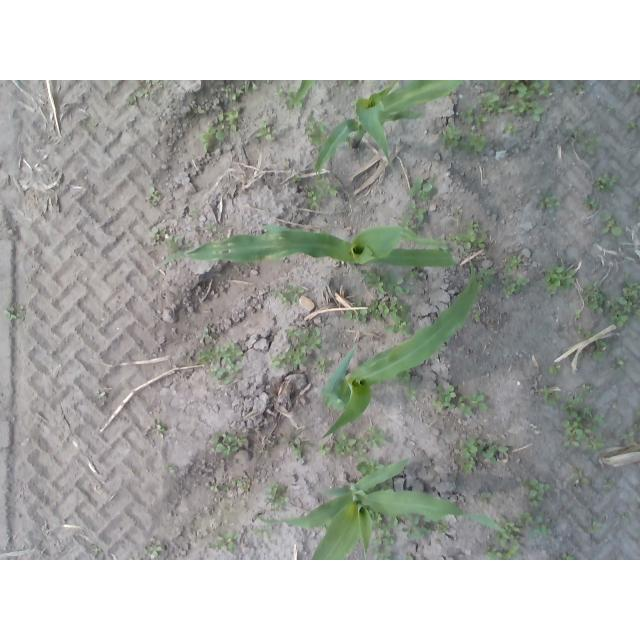Maize: (319, 257, 477, 437), (258, 456, 511, 560), (316, 81, 463, 176), (149, 224, 456, 268), (294, 81, 315, 103)
Weeds: (200, 342, 244, 384), (210, 432, 248, 456), (524, 477, 551, 507), (606, 296, 630, 328), (510, 80, 551, 98), (496, 532, 521, 560), (373, 514, 396, 544), (584, 282, 605, 314), (264, 484, 290, 509), (582, 427, 606, 453), (407, 177, 434, 200), (459, 393, 487, 415), (306, 116, 327, 145), (369, 298, 399, 318), (587, 331, 606, 362), (361, 270, 385, 294), (544, 265, 564, 292), (483, 442, 510, 462), (385, 313, 410, 334), (563, 419, 582, 446), (334, 433, 356, 455), (345, 302, 368, 323), (594, 172, 618, 192), (366, 424, 386, 448), (479, 89, 500, 111), (601, 213, 621, 236), (440, 127, 460, 150), (467, 132, 487, 155), (455, 438, 478, 458), (562, 396, 581, 420), (302, 327, 322, 349), (217, 532, 239, 552), (385, 272, 403, 294), (450, 235, 475, 250), (539, 193, 562, 209), (541, 387, 560, 406), (436, 385, 456, 403), (528, 100, 545, 121), (316, 180, 337, 196), (402, 526, 430, 538), (286, 348, 307, 364), (145, 541, 163, 559), (623, 282, 640, 301), (285, 286, 304, 303), (410, 203, 427, 222), (399, 211, 416, 230), (145, 188, 161, 207), (202, 129, 215, 152), (508, 99, 529, 113), (286, 93, 303, 110), (270, 352, 287, 369), (525, 524, 547, 537), (505, 256, 520, 274), (148, 225, 161, 245), (372, 548, 392, 561), (286, 328, 302, 344), (274, 290, 291, 305), (574, 469, 589, 486), (459, 107, 473, 125), (626, 301, 640, 319), (356, 462, 384, 471), (226, 111, 239, 130), (292, 438, 303, 459), (461, 458, 476, 473), (565, 269, 578, 286), (308, 191, 321, 208), (166, 237, 179, 254), (254, 527, 274, 538), (233, 480, 251, 492), (155, 419, 166, 437), (465, 221, 479, 235), (205, 325, 216, 342), (519, 511, 532, 525), (254, 122, 266, 137), (405, 383, 417, 398), (500, 516, 515, 528), (475, 114, 486, 130), (583, 405, 593, 422), (610, 355, 622, 369), (432, 399, 444, 413), (4, 307, 16, 320), (504, 283, 516, 296), (589, 520, 602, 532), (479, 492, 491, 505), (399, 371, 410, 385), (620, 431, 635, 441), (485, 552, 501, 561), (314, 360, 325, 373), (437, 521, 448, 534), (406, 515, 420, 525), (135, 91, 150, 100), (243, 84, 258, 93), (586, 197, 598, 208), (592, 415, 604, 426), (588, 137, 601, 147), (204, 221, 217, 231), (518, 275, 531, 285), (503, 124, 517, 133), (186, 349, 195, 363), (233, 91, 244, 102), (266, 128, 277, 139), (582, 145, 594, 155), (626, 121, 638, 131), (399, 302, 406, 319), (222, 84, 231, 97), (317, 446, 330, 455), (498, 106, 514, 113), (18, 305, 26, 319), (574, 87, 584, 98), (479, 227, 489, 237), (476, 238, 485, 249), (357, 438, 368, 447), (605, 480, 616, 489), (279, 436, 290, 445), (291, 428, 302, 437), (559, 553, 573, 560), (408, 270, 419, 278), (549, 364, 557, 375), (445, 401, 456, 409), (193, 107, 205, 114), (214, 114, 223, 123), (216, 130, 225, 139), (391, 517, 400, 526), (260, 450, 269, 459), (358, 445, 366, 455), (473, 310, 479, 323), (270, 508, 283, 514), (499, 96, 506, 107), (502, 278, 511, 286), (580, 385, 592, 391), (475, 432, 481, 444), (4, 176, 12, 185), (211, 485, 219, 493), (571, 130, 578, 139), (633, 84, 640, 93), (501, 80, 508, 89), (461, 138, 468, 147), (98, 391, 107, 398), (455, 209, 461, 219), (161, 227, 167, 237), (157, 80, 164, 88), (534, 516, 542, 523), (267, 441, 275, 448), (274, 89, 283, 95), (575, 310, 581, 319), (633, 424, 639, 433), (169, 467, 178, 473), (515, 287, 522, 294), (577, 394, 584, 401), (94, 547, 101, 554), (624, 271, 630, 279), (575, 323, 581, 331), (512, 526, 520, 532), (222, 485, 230, 491), (292, 178, 301, 183), (92, 120, 98, 127), (147, 81, 153, 88), (189, 207, 195, 214), (633, 201, 639, 208), (622, 513, 629, 519), (408, 556, 416, 561), (293, 365, 298, 372), (608, 105, 613, 111), (128, 101, 134, 106), (393, 295, 397, 302), (503, 199, 510, 203), (404, 288, 409, 293), (636, 411, 640, 417)
